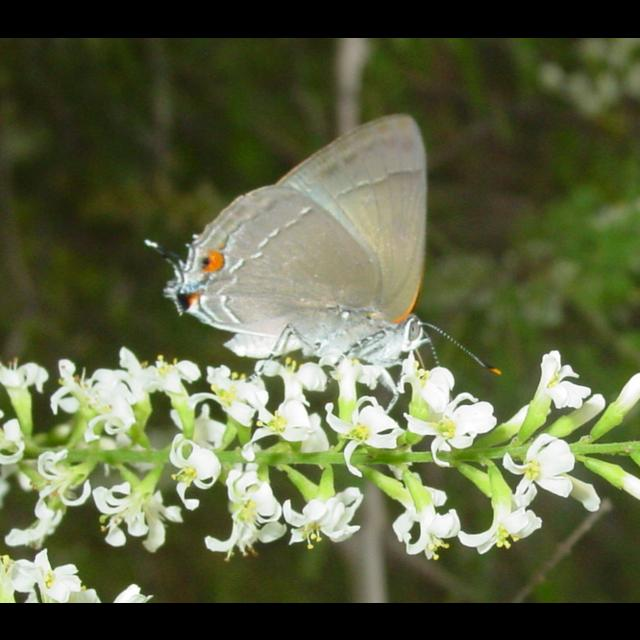Flower: (1, 352, 640, 602), (538, 349, 604, 421)
